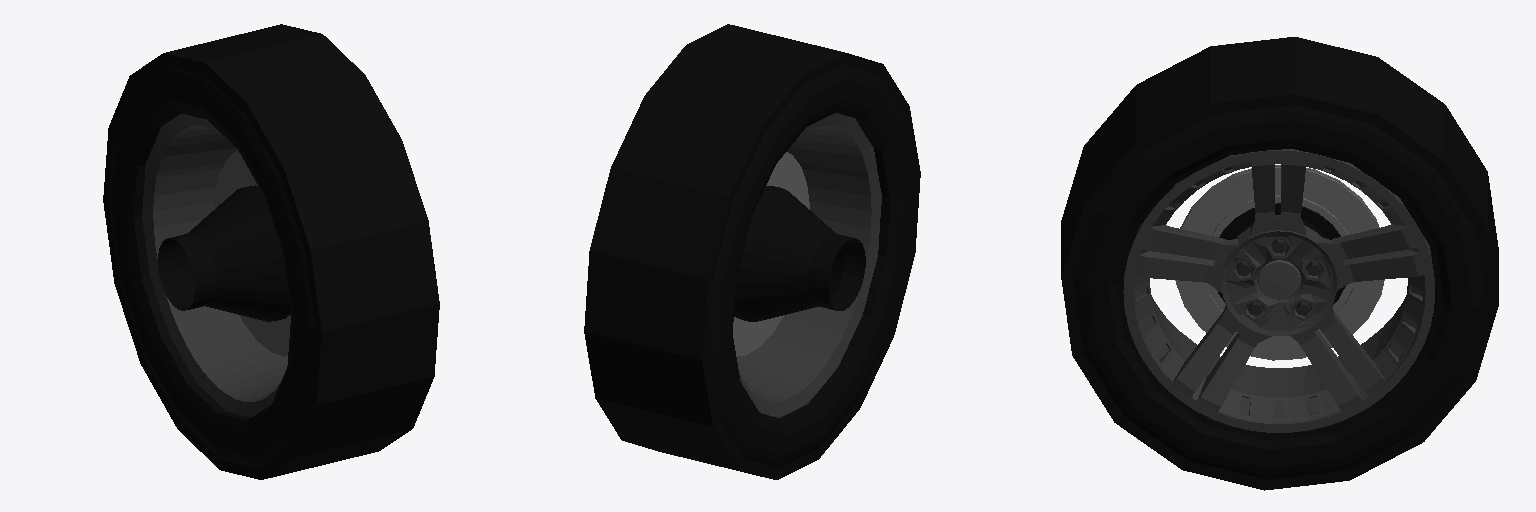
The model's file is wheel_left.obj.
3 views of the same model, side by side, from view 1: azimuth 30°, elevation 25°; view 2: azimuth 150°, elevation 25°; view 3: azimuth 270°, elevation 25° (orthographic).
Visible parts, largest first — view 1: wheel; view 2: wheel; view 3: wheel.
Part boxes in pixels (left/top/right/bottom): wheel: left=103, top=24, right=439, bottom=479; wheel: left=584, top=24, right=920, bottom=479; wheel: left=1061, top=37, right=1498, bottom=490.
Bounding box in the file's own units: 1.28 × 3.04 × 3.04.